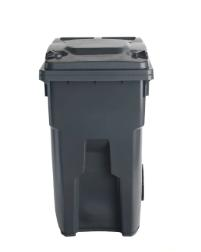garbage container: (36, 33, 157, 239)
